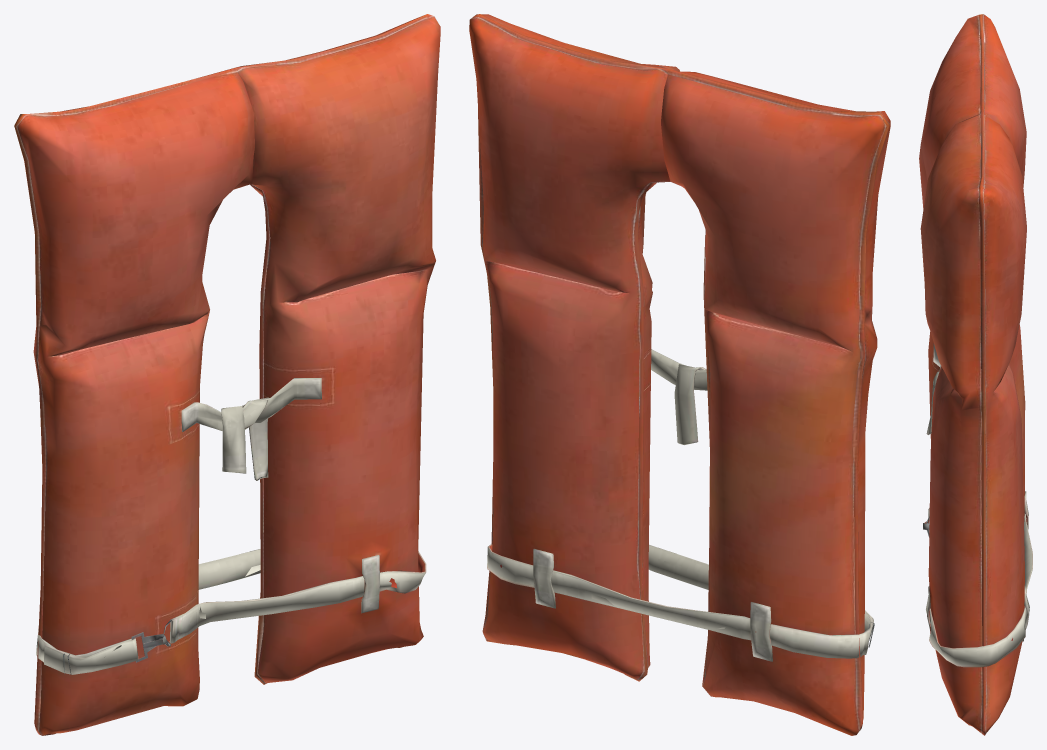
The model's file is life_jacket.slim.glb.
The picture shows the model from 3 angles, left to right: view 1: azimuth 30°, elevation 25°; view 2: azimuth 150°, elevation 25°; view 3: azimuth 270°, elevation 25°; orthographic projection. The views are drawn at different scales.
Size of the model in its own units: 0.6927 by 0.9898 by 0.1834.
Materials: 1 (1 with a texture image).
